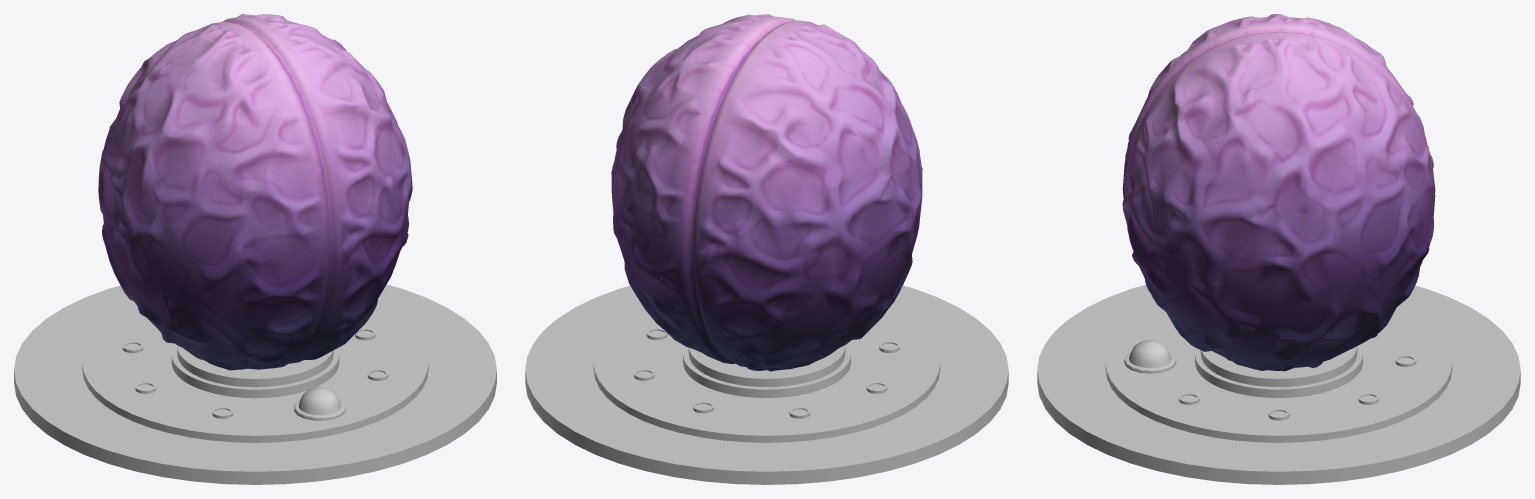
File: babidiyuzhouchuan_fuhuatai.FBX
The picture shows the model from 3 angles, left to right: view 1: azimuth 30°, elevation 25°; view 2: azimuth 150°, elevation 25°; view 3: azimuth 270°, elevation 25°; orthographic projection.
Visible parts, largest first — view 1: babidiyuzhouchuan_fuhuatai; view 2: babidiyuzhouchuan_fuhuatai; view 3: babidiyuzhouchuan_fuhuatai.
Part boxes in pixels (x1,y1,x2,y2): babidiyuzhouchuan_fuhuatai: [14, 14, 496, 484]; babidiyuzhouchuan_fuhuatai: [525, 14, 1008, 484]; babidiyuzhouchuan_fuhuatai: [1037, 14, 1520, 484].
Size of the model in its own units: 496 by 401 by 496.
